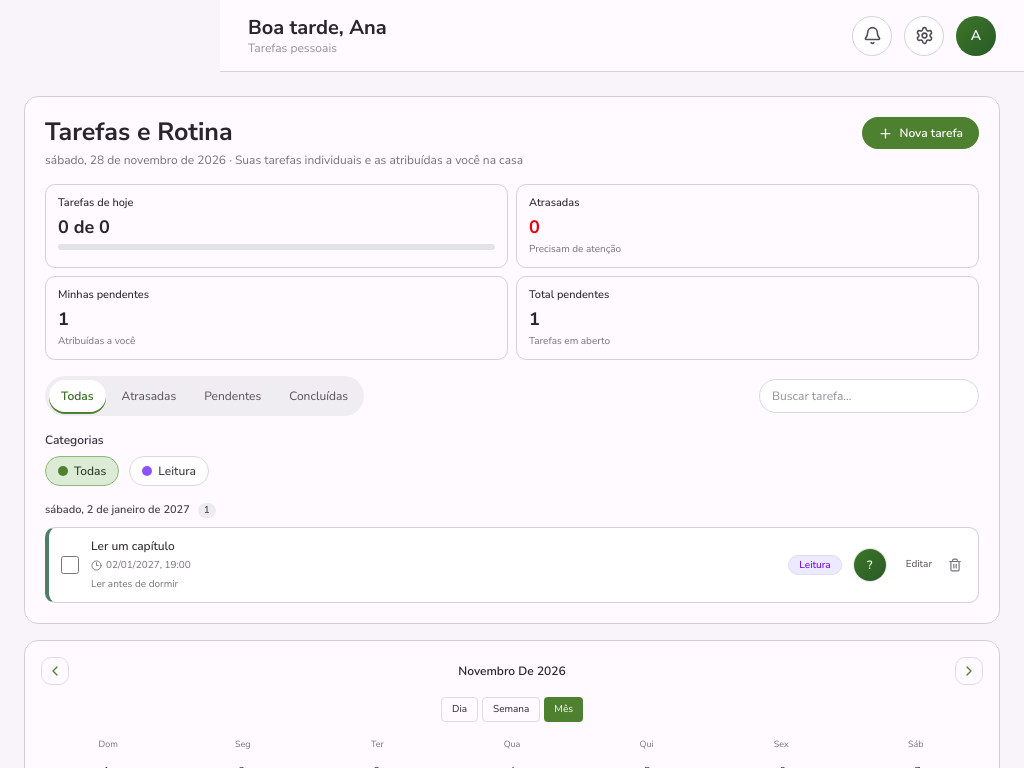
TasksPage › asks for confirmation before deleting a personal task
The width and height of the screenshot is (1024, 768).
Expected: the heading "Ler um capítulo" is shown, x1=91 y1=538 x2=175 y2=554
Click the button named "Excluir Ler um capítulo": (955, 565) x1=944 y1=554 x2=966 y2=576
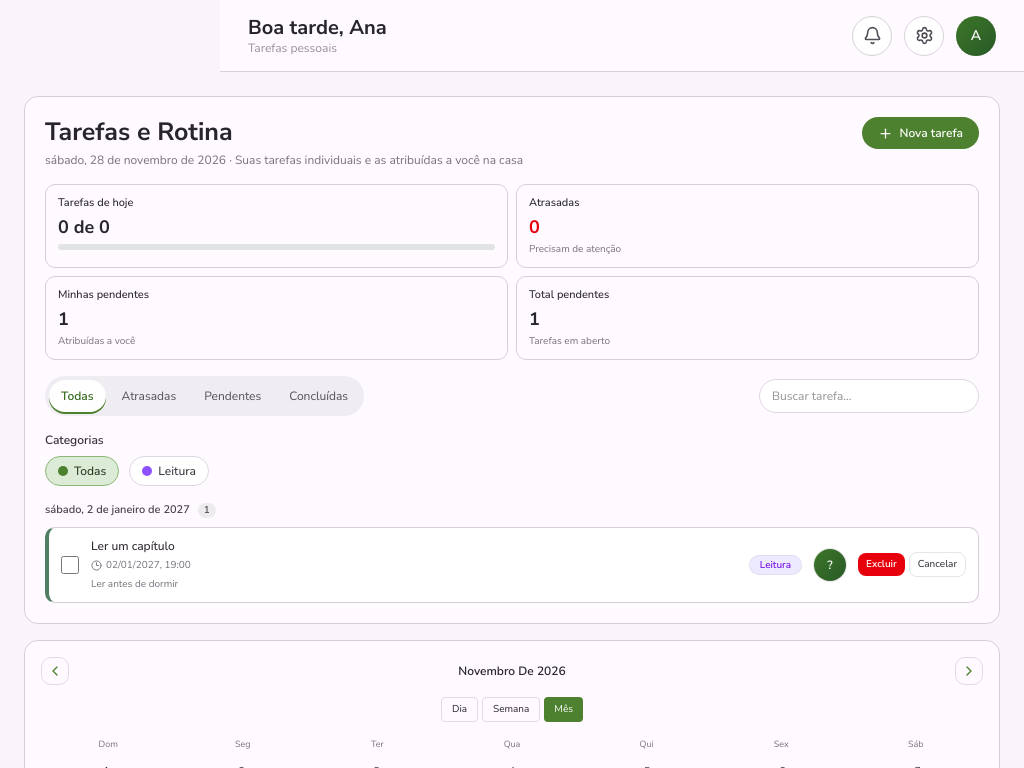
Click the button "Excluir": (881, 565) x1=858 y1=553 x2=905 y2=576
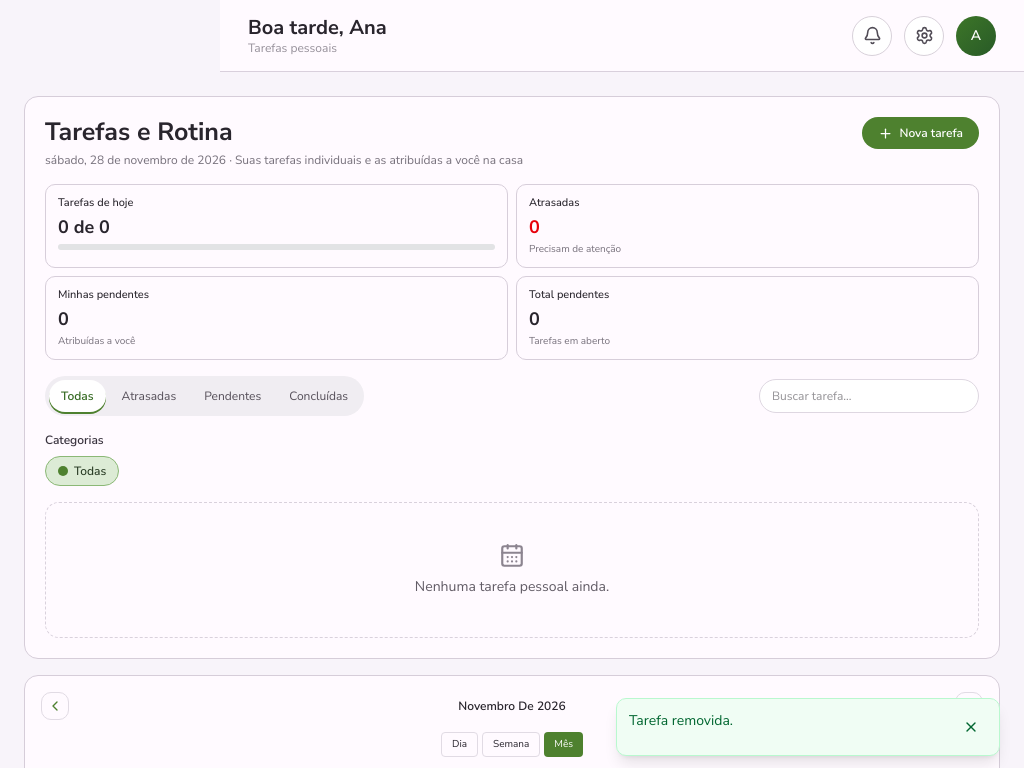
Result: the text "Nenhuma tarefa pessoal ainda." is shown at x1=415 y1=577 x2=609 y2=596
Result: the message reads "Tarefa removida." at x1=629 y1=711 x2=733 y2=730
